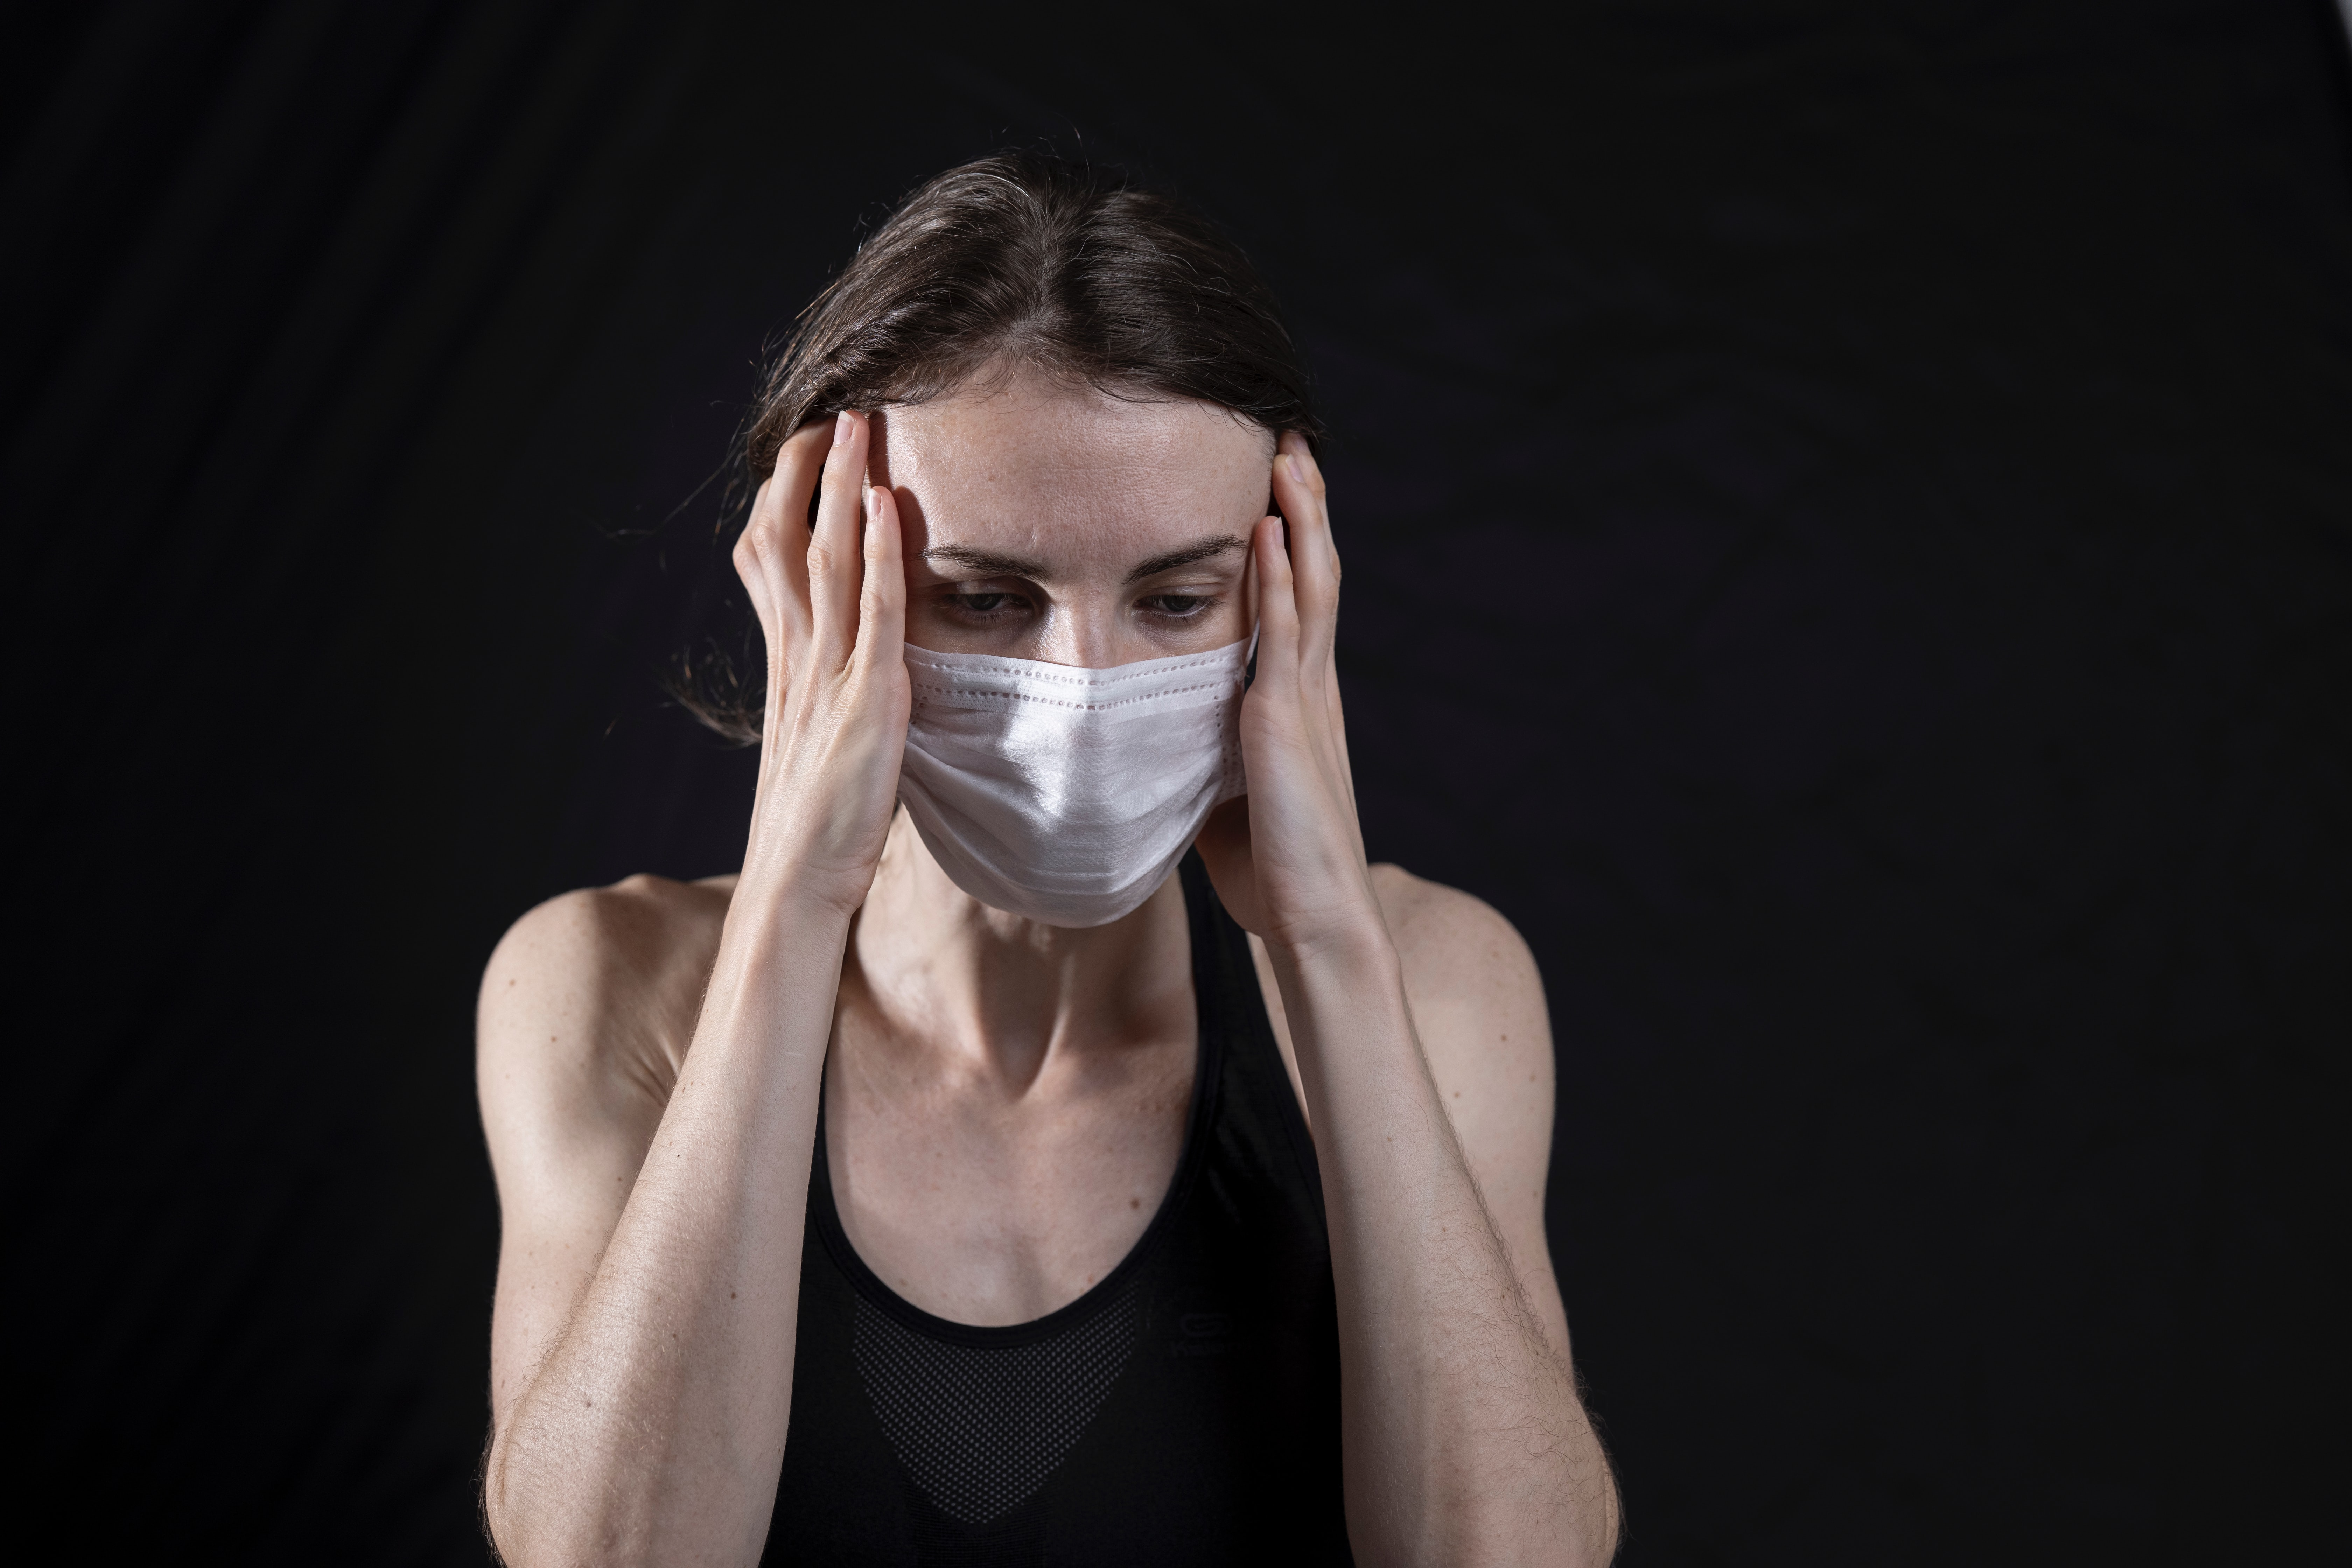mask: (873, 632, 1286, 947)
person: (436, 170, 1661, 1551)
